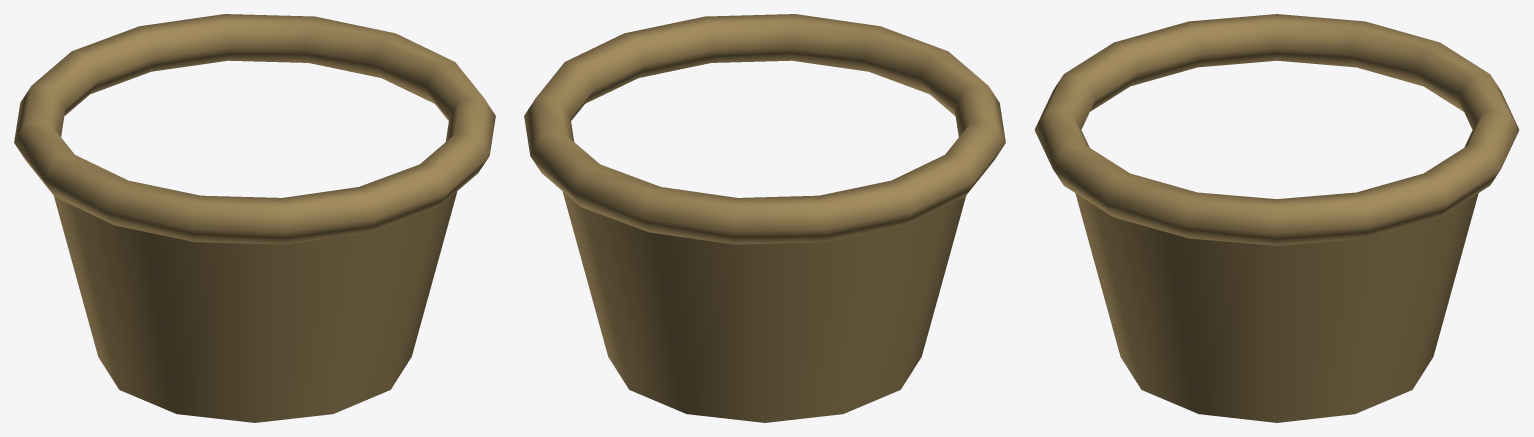
The model's file is basket-60af0c09.glb.
3 renders of one model, left to right at view 1: azimuth 30°, elevation 25°; view 2: azimuth 150°, elevation 25°; view 3: azimuth 270°, elevation 25°, orthographic.
Bounding box in the file's own units: 0.62 × 0.346 × 0.62.
